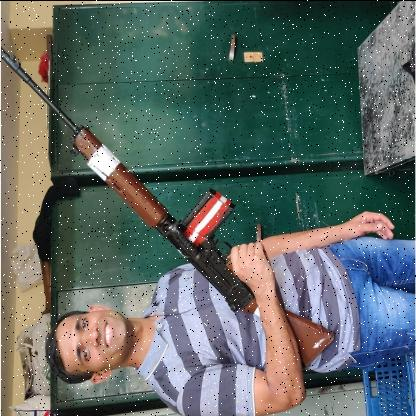rifle: (1, 47, 338, 367)
